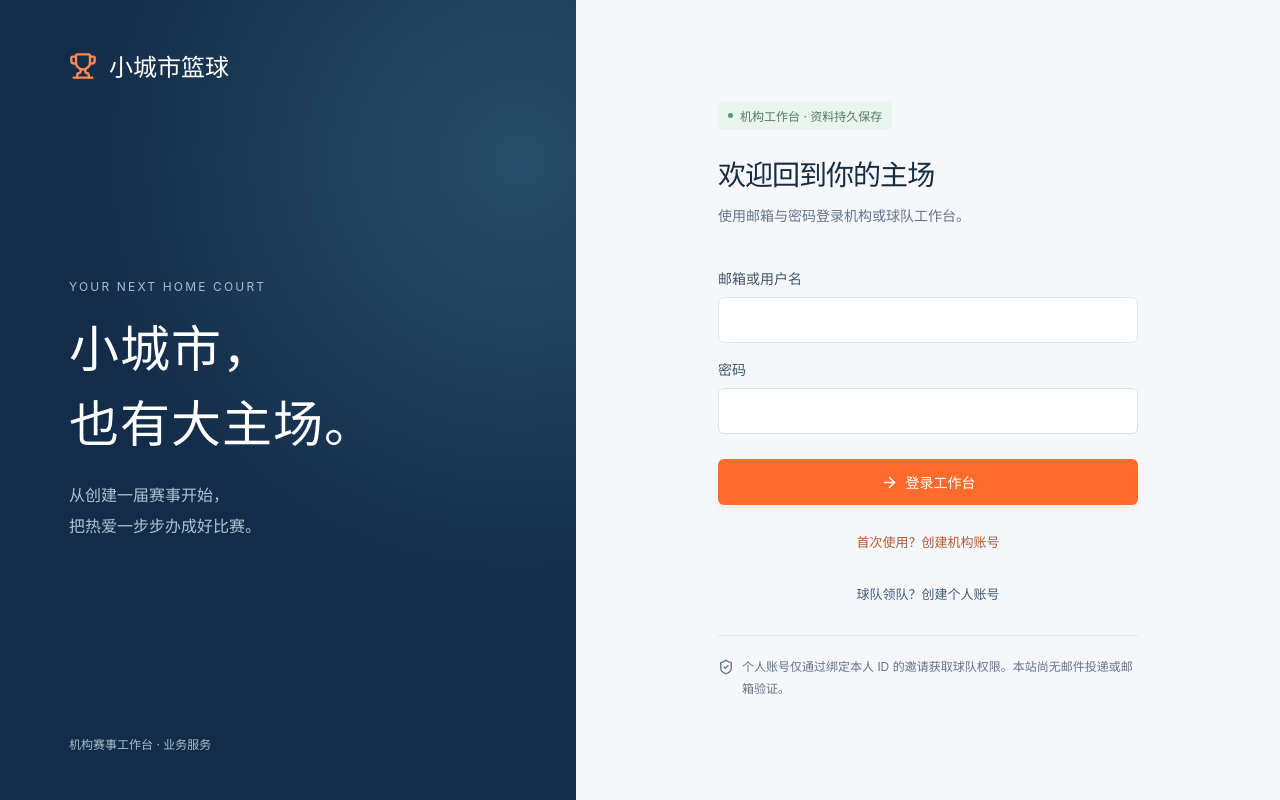
Test: independent signed-out registration capabilities › re-reads capabilities after logout instead of retaining previously open registration
The width and height of the screenshot is (1280, 800).
expect the button "首次使用？创建机构账号" is shown: met, box [850,519,1006,563]
Type "leader@example.test" into the field labelled "邮箱或用户名".
click(928, 320); type("leader@example.test")  # box [718,297,1138,343]
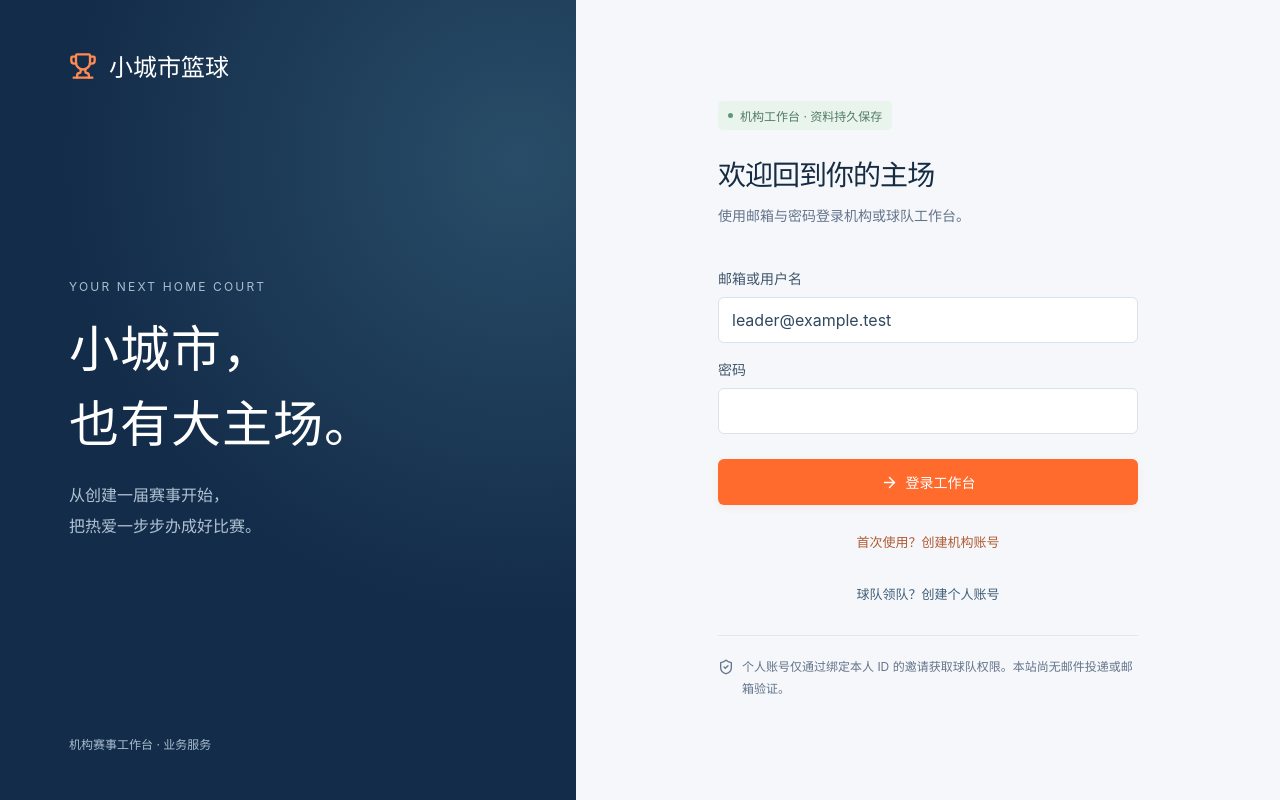
Type "correct-password" into the password field labelled "密码".
click(928, 411); type("correct-password")  # box [718,388,1138,434]
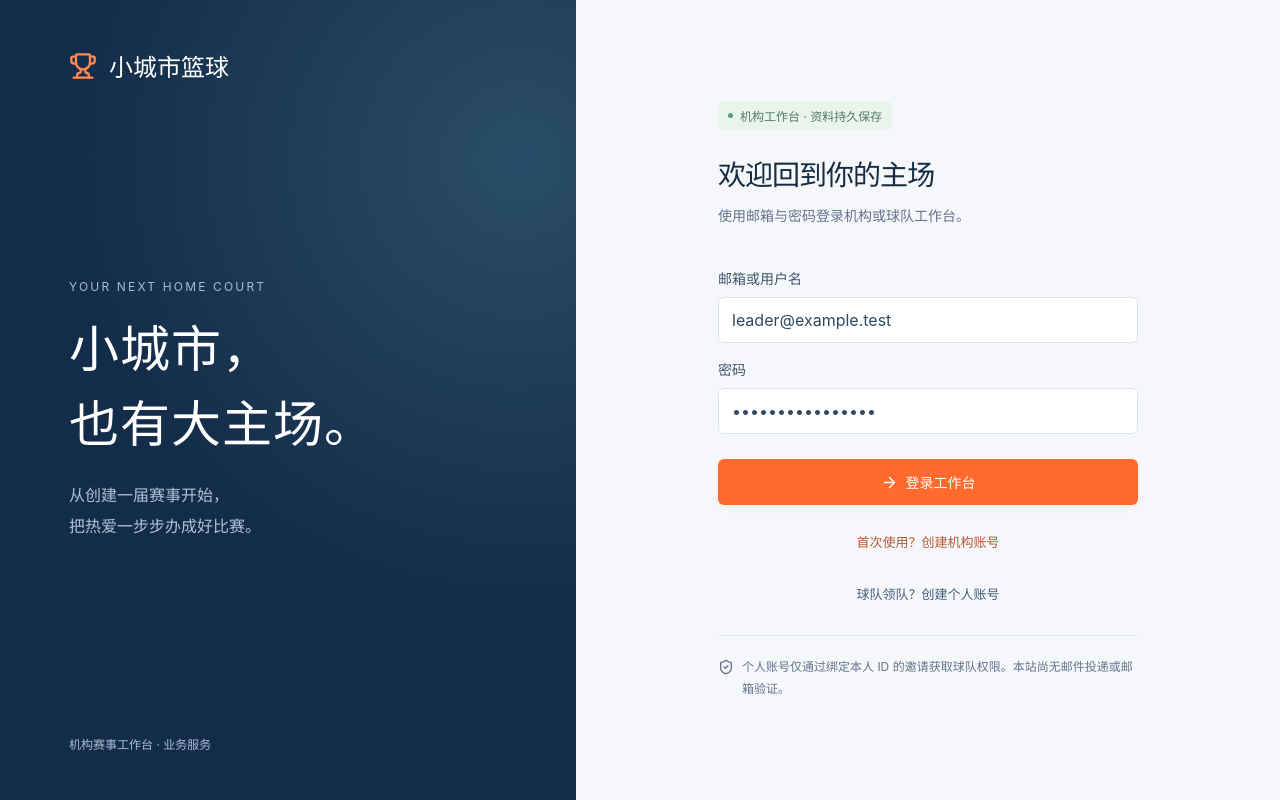
Click the button "登录工作台".
click(928, 482)  # box [718,459,1138,505]
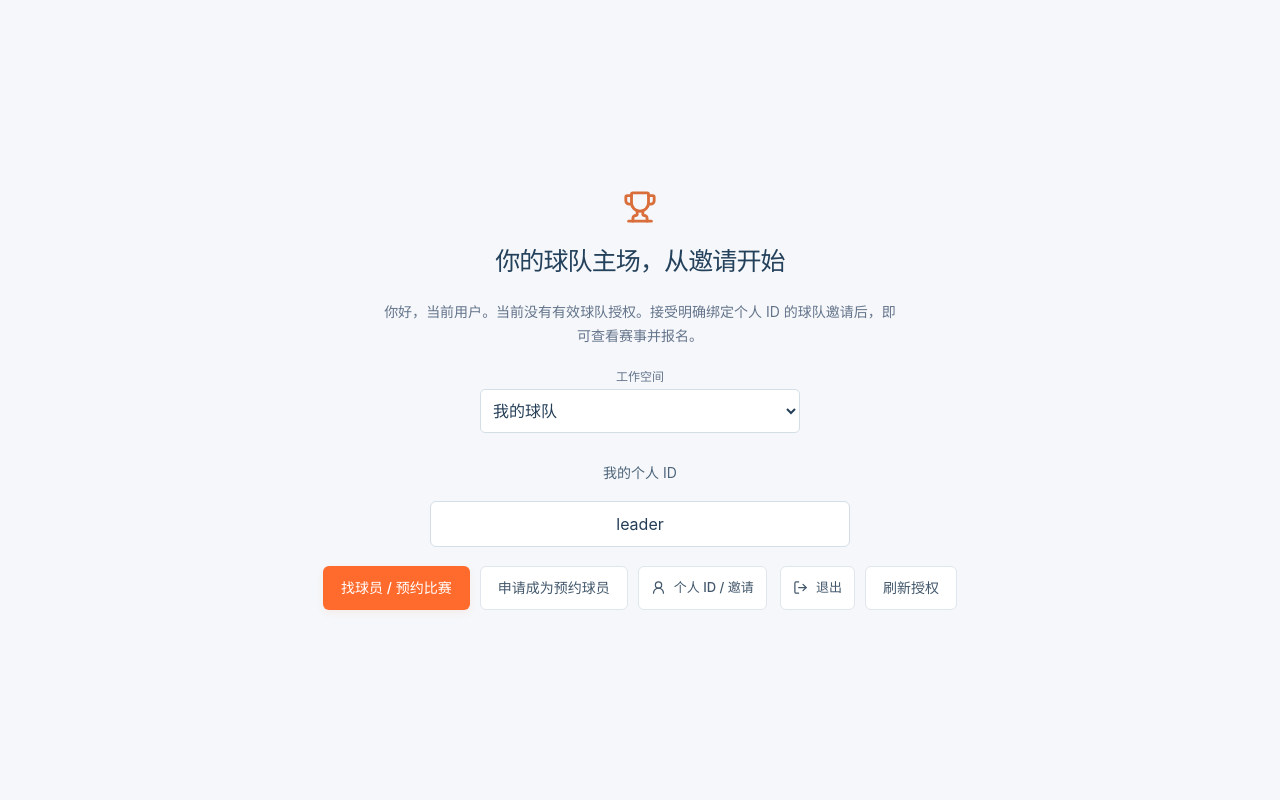
Click the button "退出".
click(817, 588)  # box [780,566,855,610]
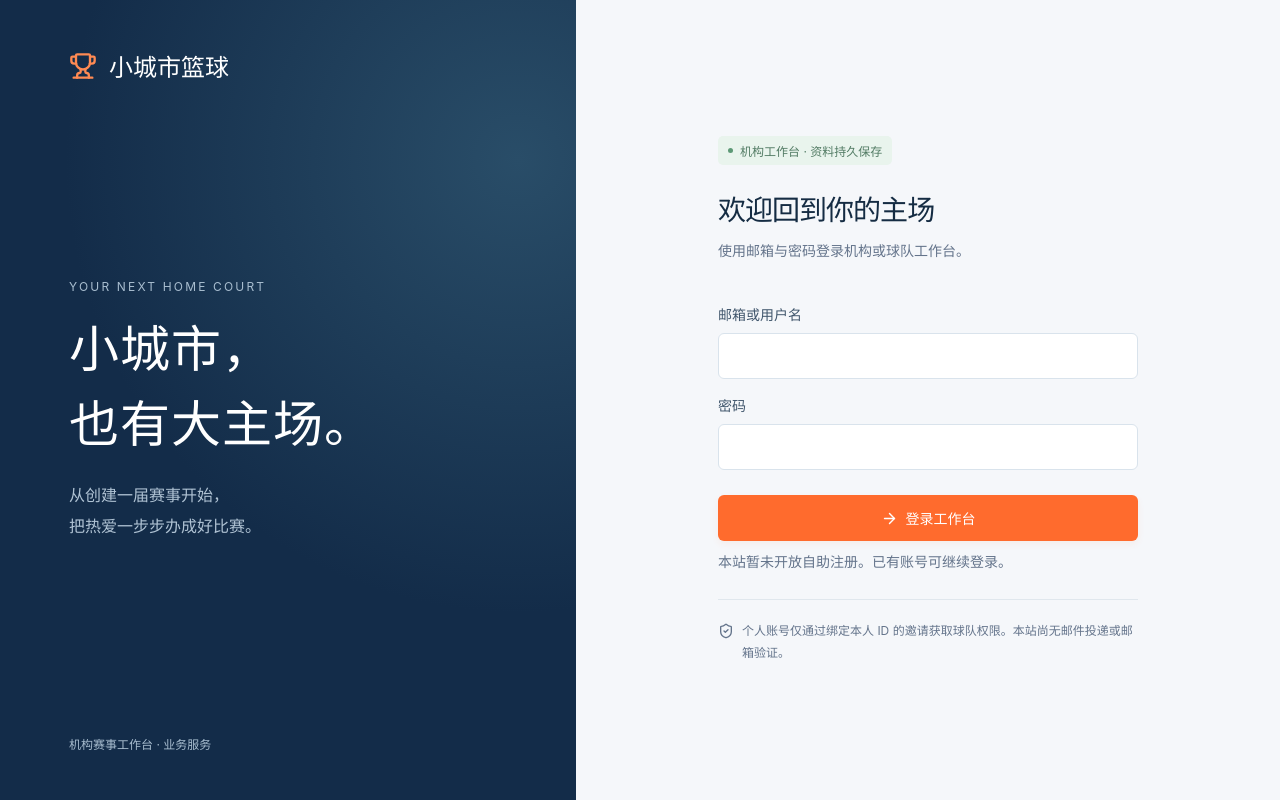
expect the button "首次使用？创建机构账号" is not shown: met
expect the text "本站暂未开放自助注册。已有账号可继续登录。" is shown: met, box [718,553,1012,570]
expect the button "登录工作台" is enabled: met, box [718,495,1138,541]
